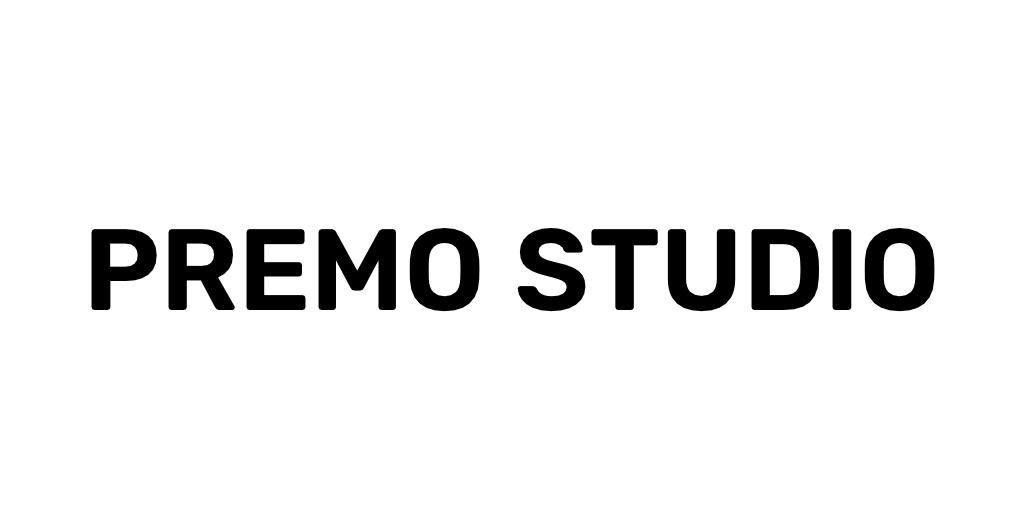sign: (83, 202, 941, 310)
